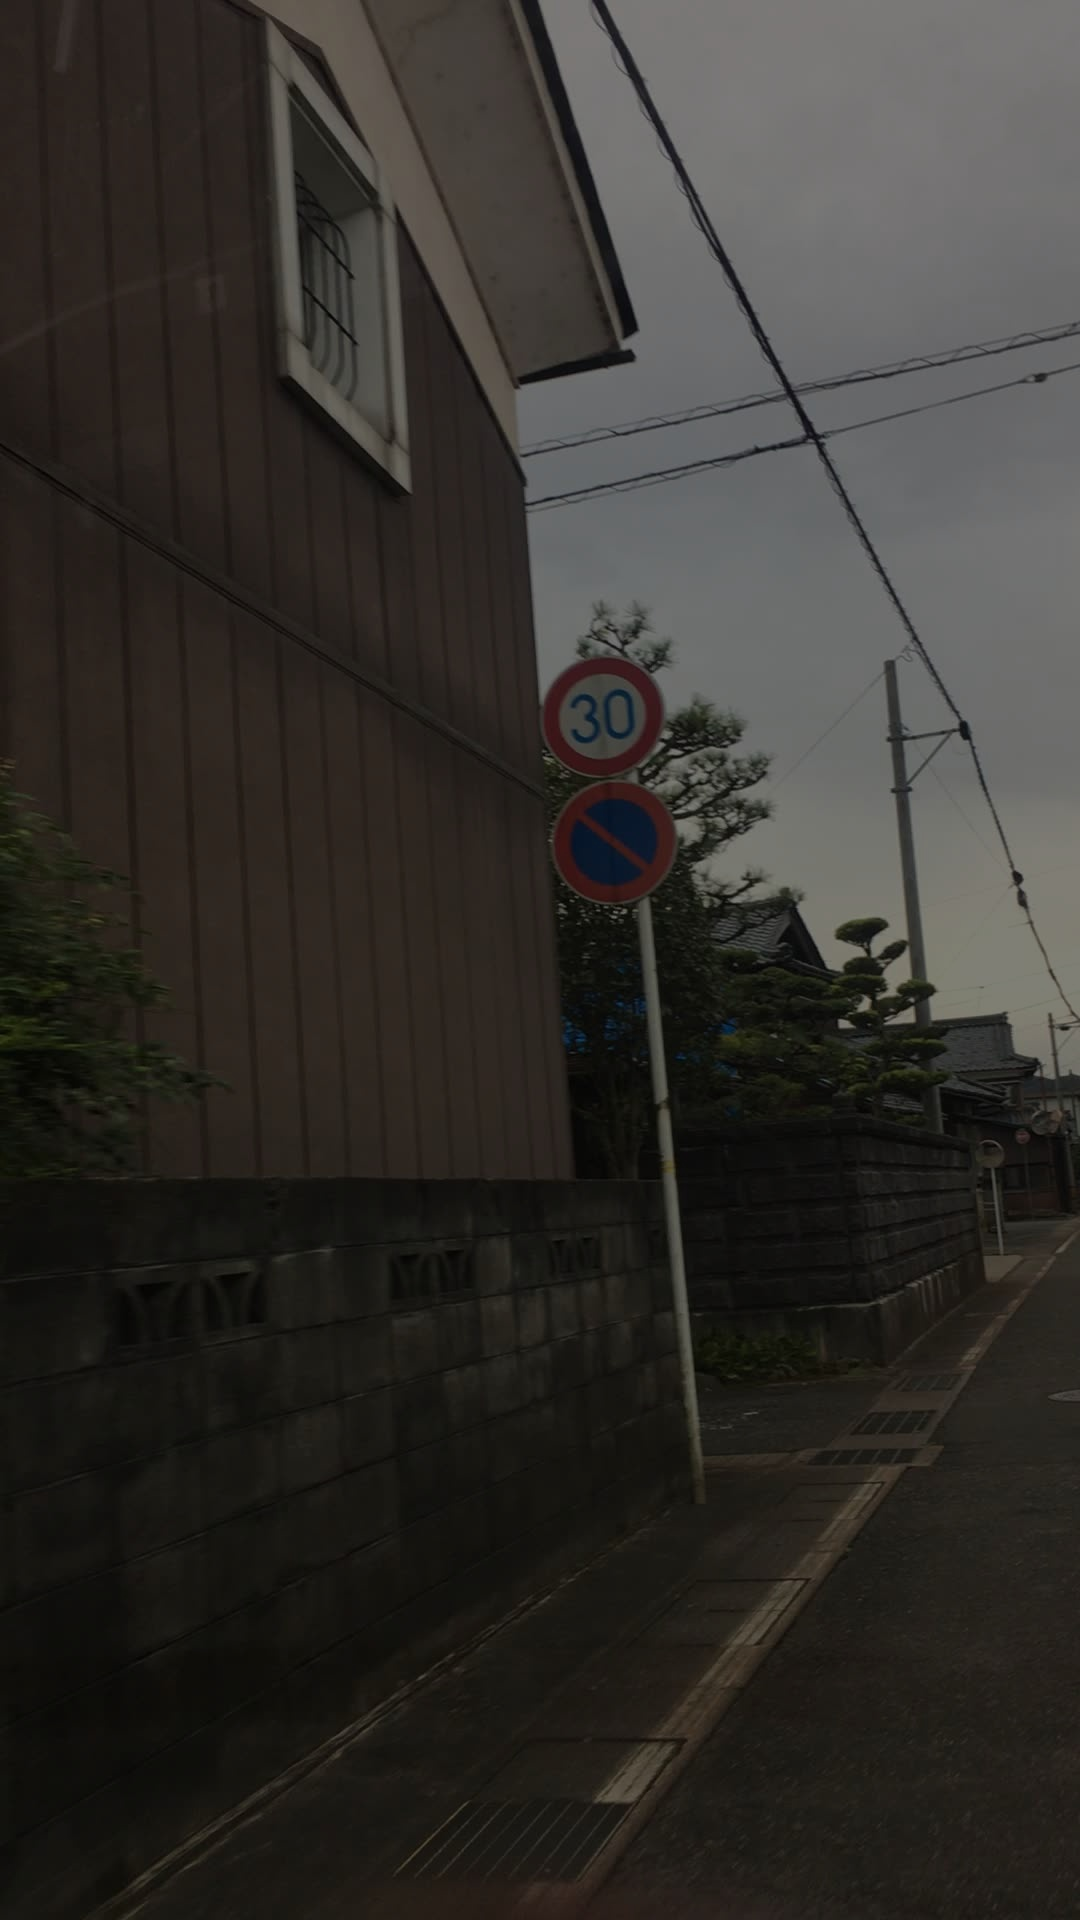Prohibition_sign: (526, 758, 673, 902)
Speed_sign: (538, 651, 686, 781)
